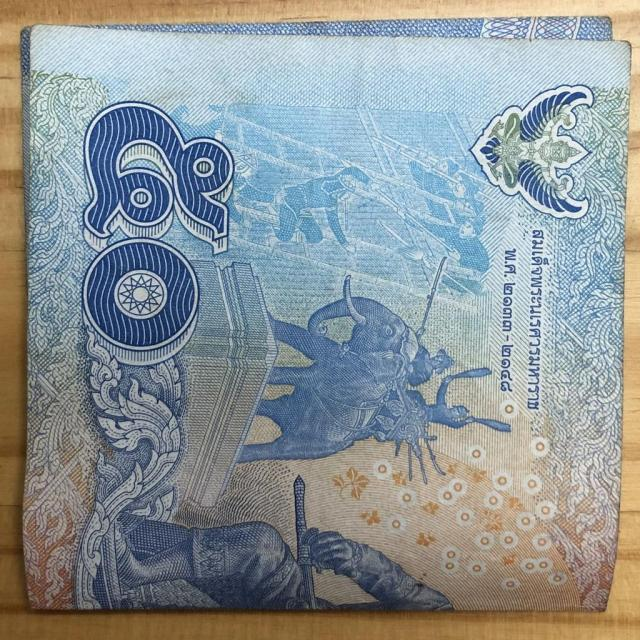THAI50: (18, 14, 633, 619)
